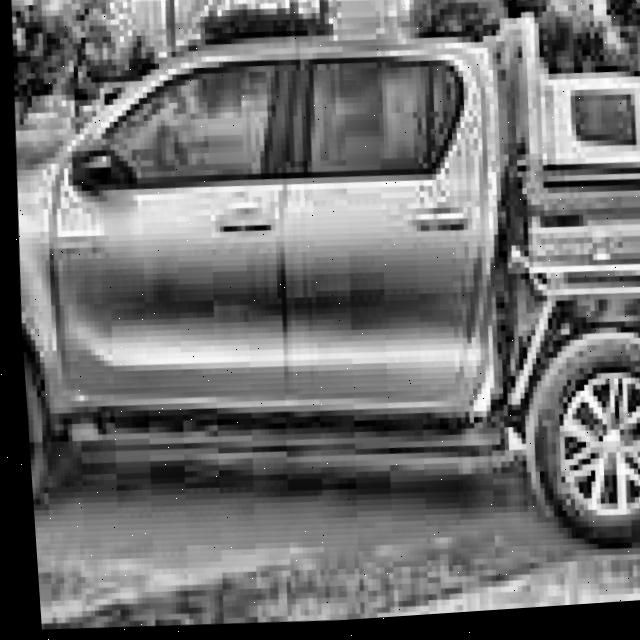light_vehicle: (1, 0, 640, 600)
